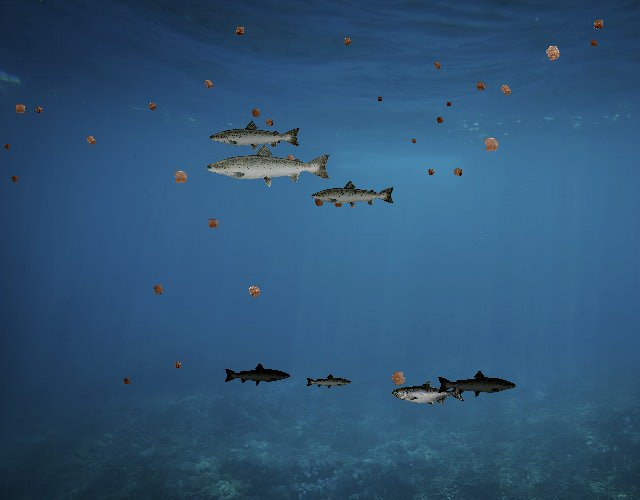Fish: (204, 142, 333, 188), (209, 119, 303, 153), (310, 179, 396, 210), (437, 370, 518, 399), (393, 380, 466, 406), (224, 362, 292, 386), (306, 373, 353, 390)
Pellet: (242, 279, 267, 304), (339, 33, 356, 50), (170, 358, 185, 373), (423, 165, 438, 179), (120, 374, 134, 388), (32, 103, 46, 117)
